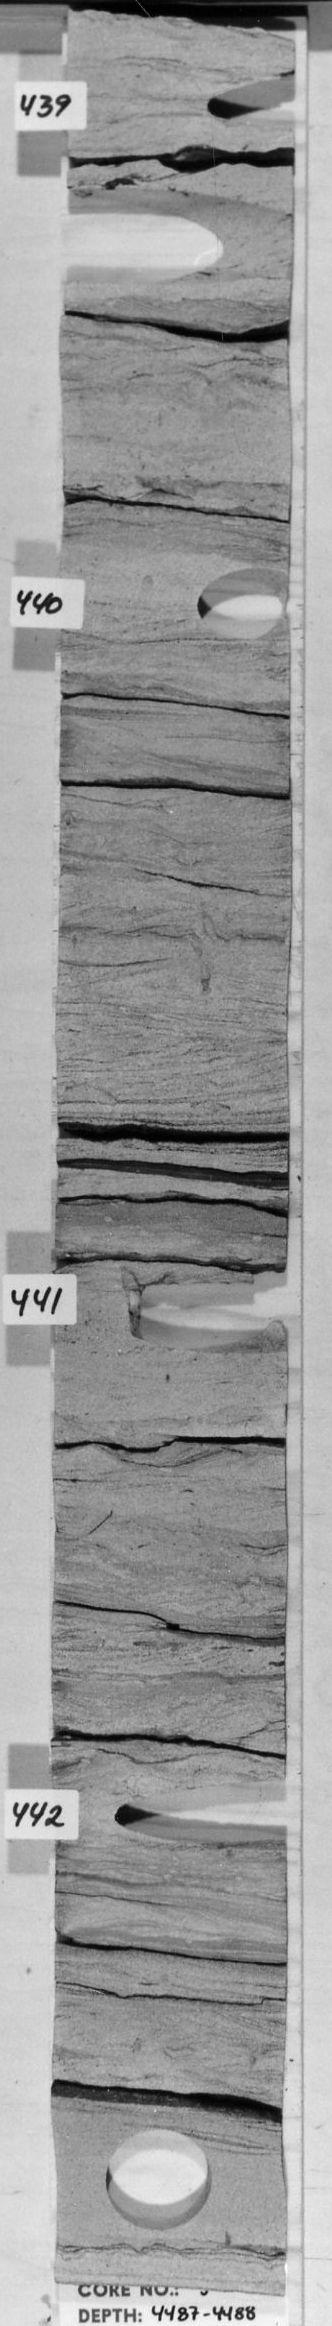hplug: (124, 1268, 288, 1360), (110, 1771, 283, 1856), (193, 564, 288, 642), (199, 65, 292, 134)
scal: (64, 179, 290, 298), (101, 2127, 219, 2231)
